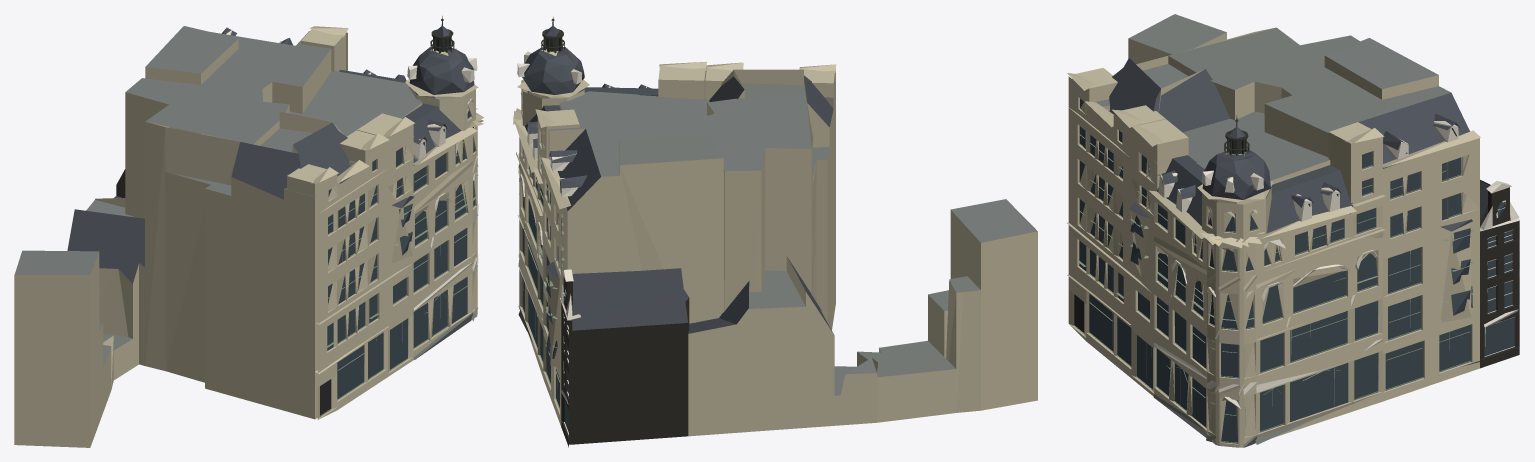
The model's file is nieuw-engeland.lod1.glb.
3 renders of one model, left to right at view 1: azimuth 30°, elevation 25°; view 2: azimuth 150°, elevation 25°; view 3: azimuth 270°, elevation 25°, orthographic. The views are drawn at different scales.
Visible parts, largest first — view 1: nieuw-engeland; view 2: nieuw-engeland; view 3: nieuw-engeland.
Part boxes in pixels (bbox=[...]): nieuw-engeland: bbox=[14, 16, 483, 447]; nieuw-engeland: bbox=[513, 17, 1037, 447]; nieuw-engeland: bbox=[1067, 14, 1520, 447].
Bounding box in the file's own units: 50.87 × 29.65 × 38.43.
